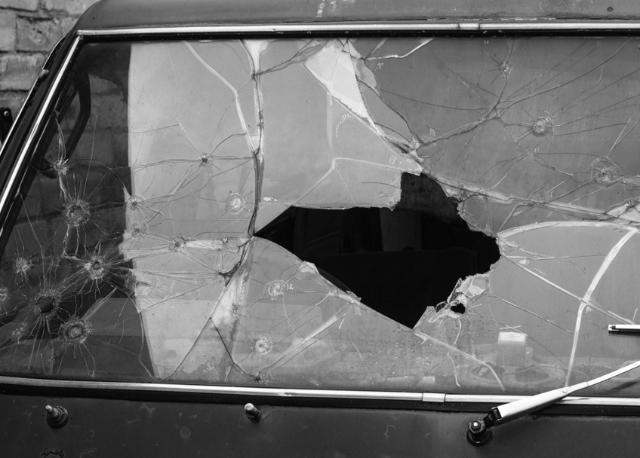Windshield: (0, 32, 640, 419)
